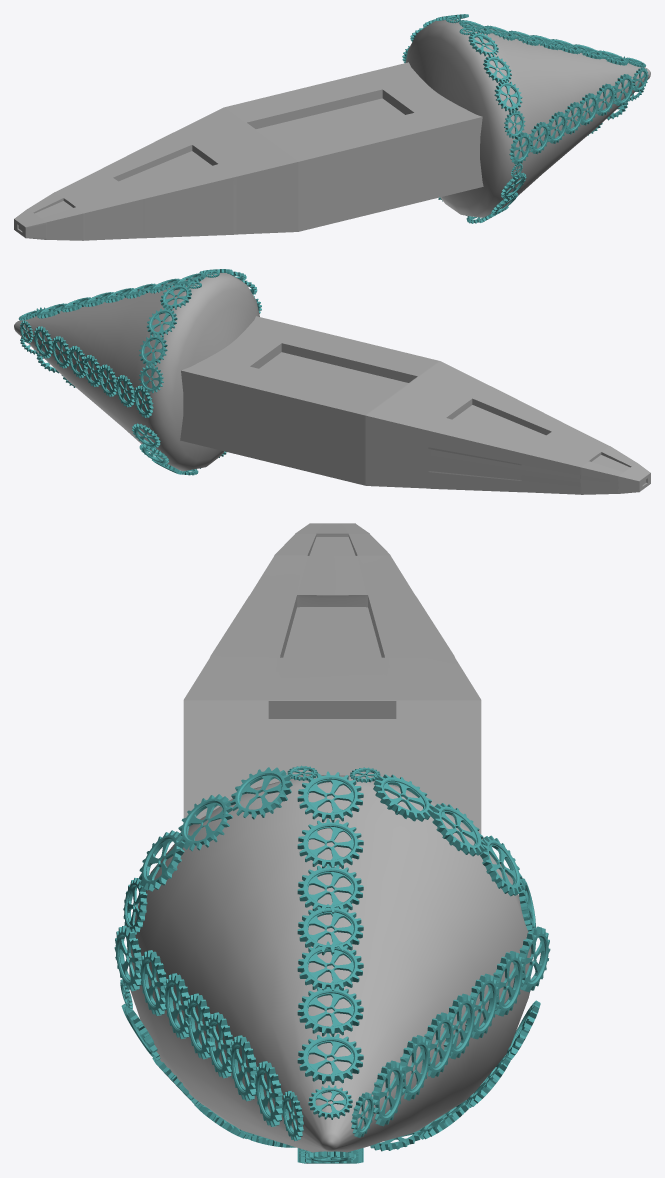
The model's file is BallArrow.fbx.
3 views of the same model, one above another, from view 1: azimuth 30°, elevation 25°; view 2: azimuth 150°, elevation 25°; view 3: azimuth 270°, elevation 25° (orthographic). The views are drawn at different scales.
Visible parts, largest first — view 1: body_low, head_low, light_low, Gear29 (×2), Gear31, Gear21, Gear30, Gear27, Gear22, Gear23, Gear26, Gear25 (+2 smaller); view 2: body_low, head_low, light_low, Gear29 (×2), Gear31, Gear30, Gear22, Gear21, Gear27, Gear32, Gear23, Gear26 (+2 smaller); view 3: head_low, body_low, light_low, Gear29 (×2), Gear30 (×2), Gear31 (×2), Gear27 (×2), Gear21 (×2), Gear22 (×2), Gear26 (×2), Gear23 (×2), Gear24 (×2) (+10 smaller).
Part boxes in pixels (x1,y1,x2,y2): body_low: [14, 62, 483, 240]; head_low: [405, 20, 650, 217]; light_low: [18, 98, 404, 230]; Gear29 (×2): [468, 32, 526, 198]; Gear31: [494, 80, 522, 111]; Gear21: [509, 132, 531, 164]; Gear30: [483, 55, 511, 83]; Gear27: [613, 74, 633, 106]; Gear22: [529, 122, 549, 154]; Gear23: [547, 111, 567, 143]; Gear26: [596, 83, 615, 115]; Gear25: [576, 93, 598, 125]; body_low: [180, 316, 650, 494]; head_low: [14, 273, 259, 471]; light_low: [259, 352, 646, 484]; Gear29 (×2): [132, 284, 191, 448]; Gear31: [139, 334, 167, 366]; Gear30: [146, 307, 177, 336]; Gear22: [115, 375, 134, 407]; Gear21: [133, 385, 153, 417]; Gear27: [33, 326, 52, 358]; Gear32: [138, 364, 163, 393]; Gear23: [99, 364, 117, 396]; Gear26: [51, 336, 69, 368]; head_low: [129, 775, 531, 1152]; body_low: [183, 523, 481, 834]; light_low: [268, 537, 396, 785]; Gear29 (×2): [230, 767, 433, 821]; Gear30 (×2): [177, 794, 485, 856]; Gear31 (×2): [139, 830, 523, 896]; Gear27 (×2): [254, 1060, 404, 1126]; Gear21 (×2): [114, 925, 550, 992]; Gear22 (×2): [140, 950, 523, 1016]; Gear26 (×2): [230, 1035, 430, 1101]; Gear23 (×2): [164, 973, 498, 1039]; Gear24 (×2): [187, 993, 475, 1059].
Bounding box in the file's own units: 2.59 × 0.7474 × 0.7751.
